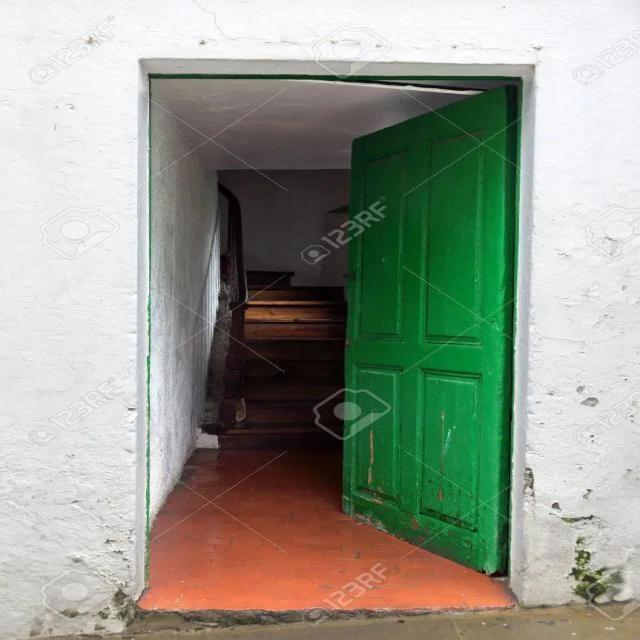door: (340, 83, 518, 576)
